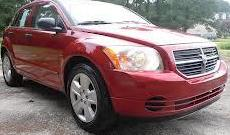front_view: (103, 33, 229, 124)
headlight: (99, 43, 178, 80)
side_glass: (17, 3, 60, 37)
